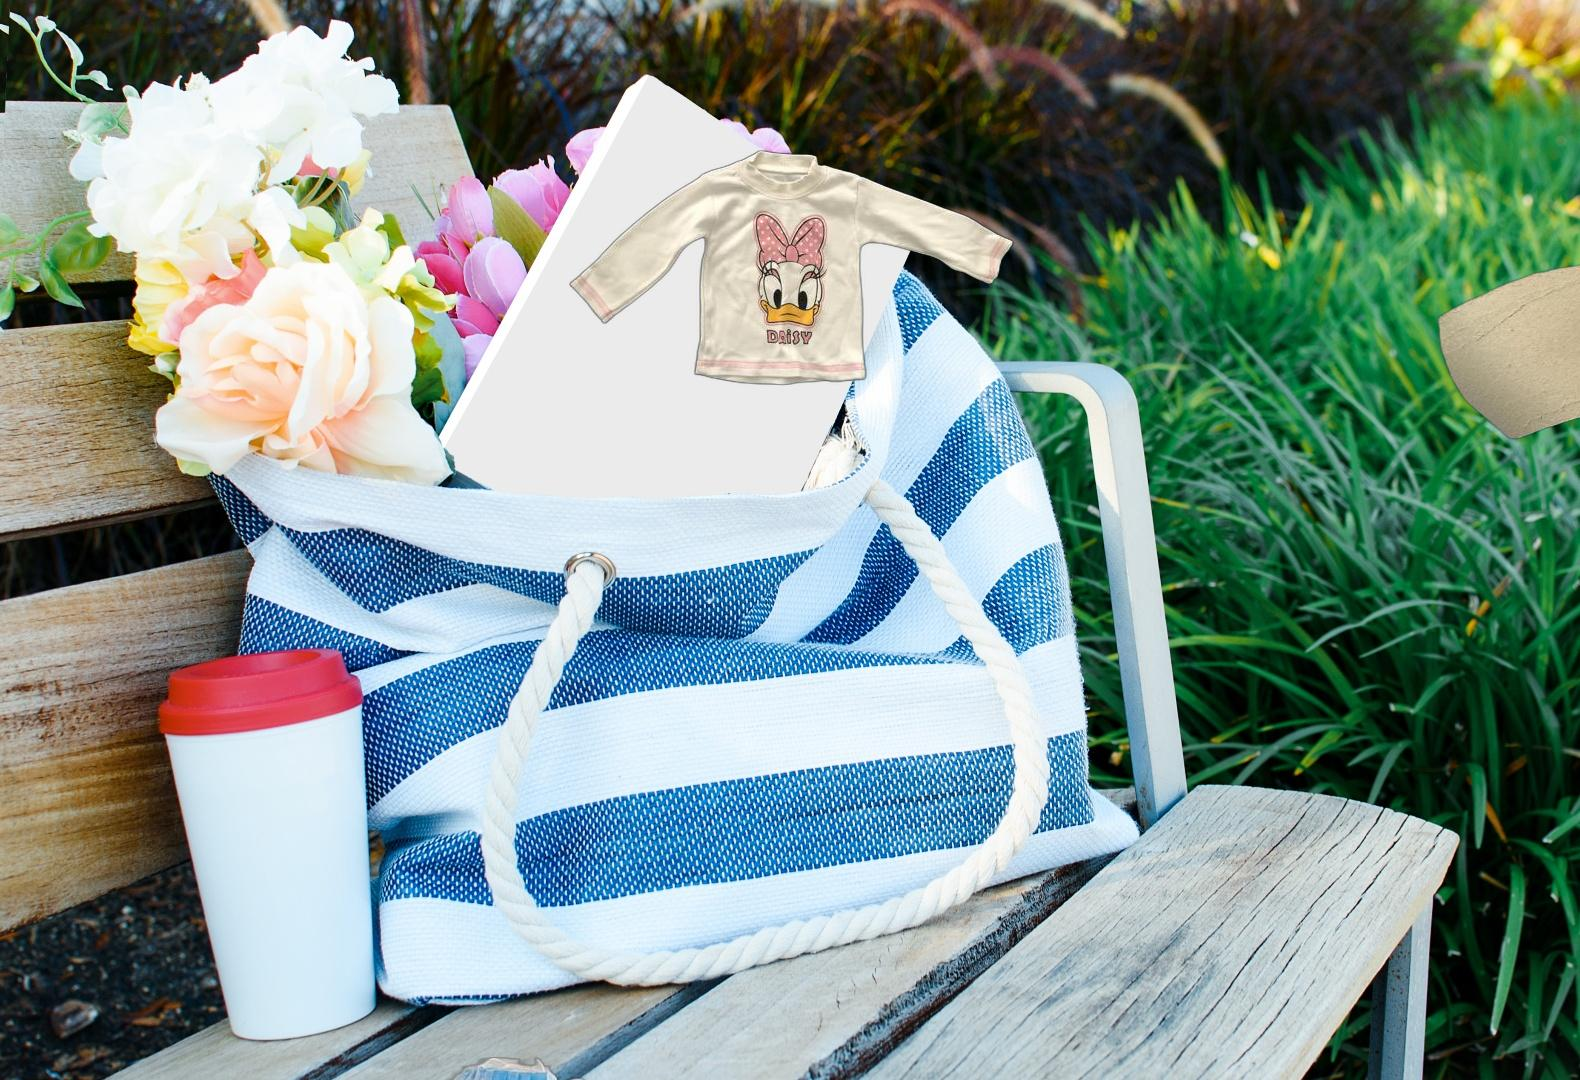clothes: (565, 148, 1018, 389)
metal-cans: (1579, 367, 1580, 502)
paper: (1434, 253, 1580, 442)
trash: (355, 1055, 641, 1080)
